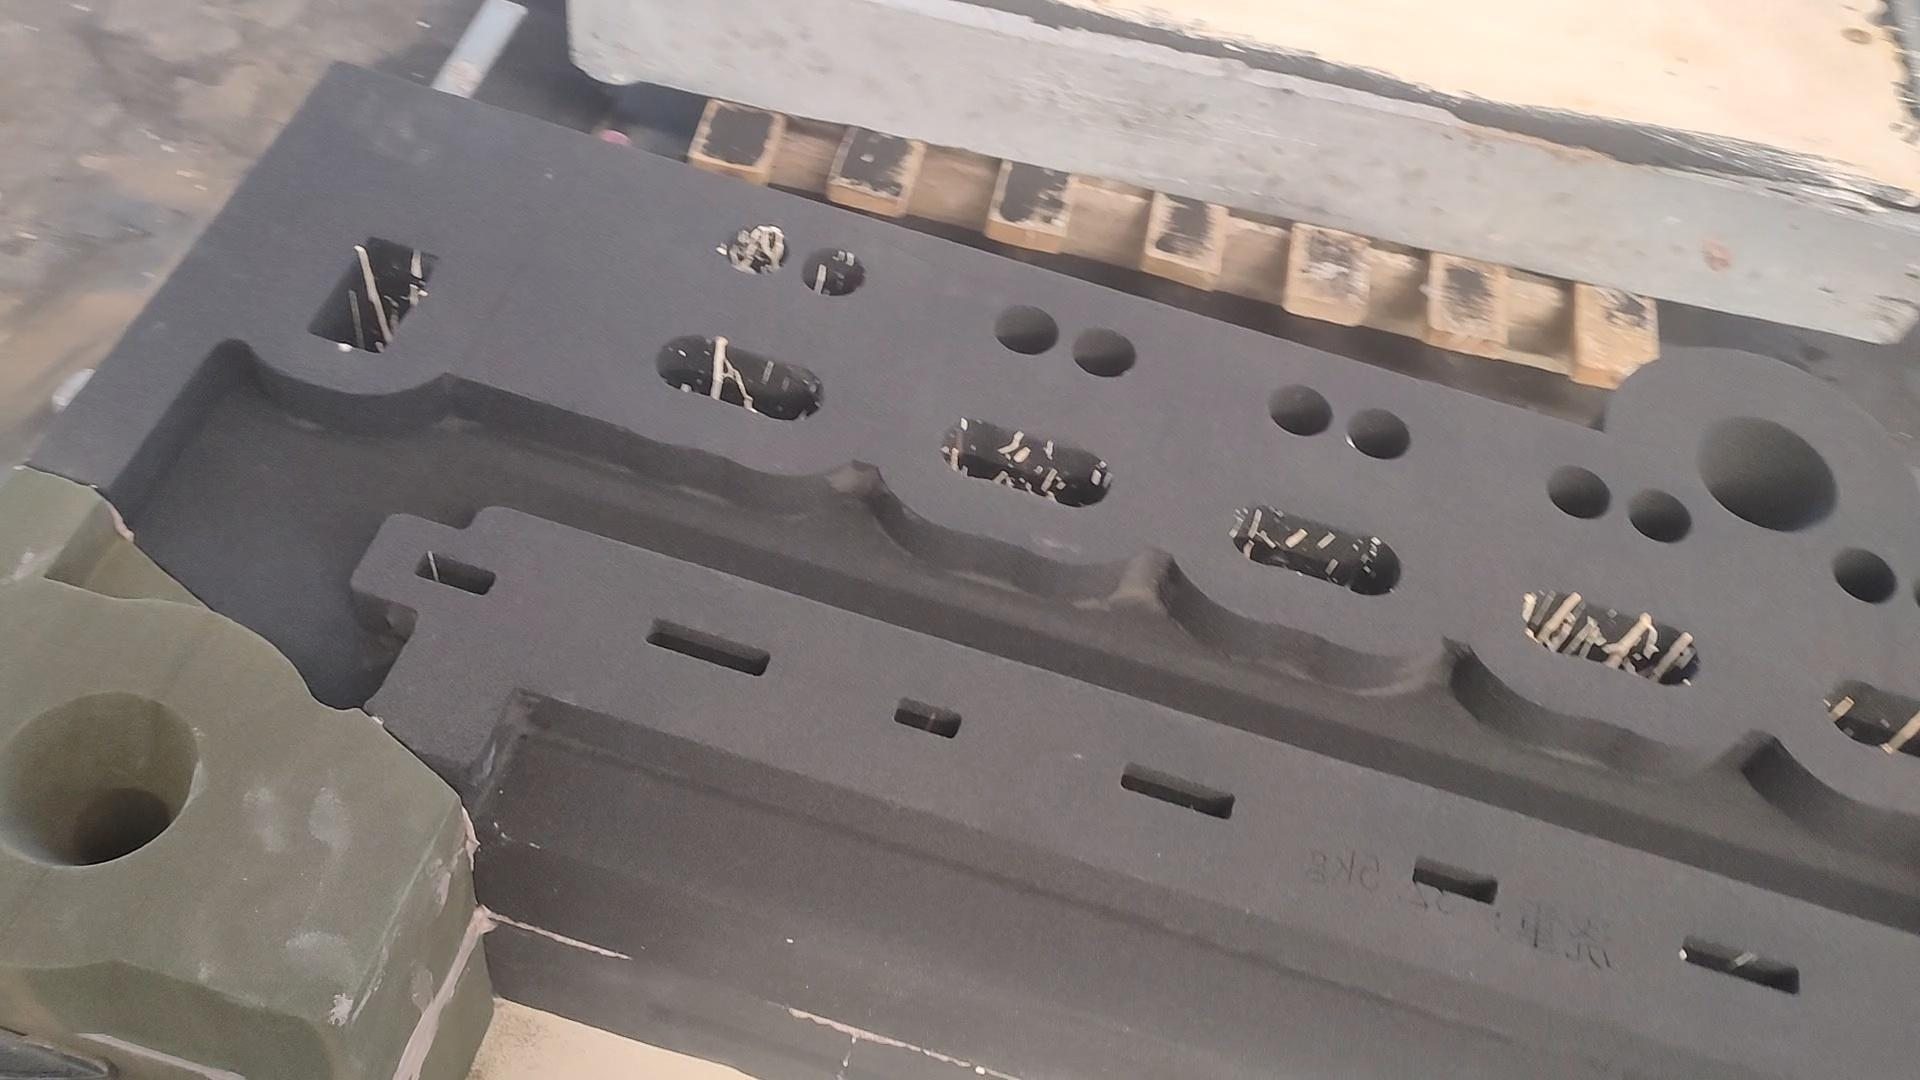pouring hole: (1, 686, 198, 865), (1698, 415, 1840, 533)
